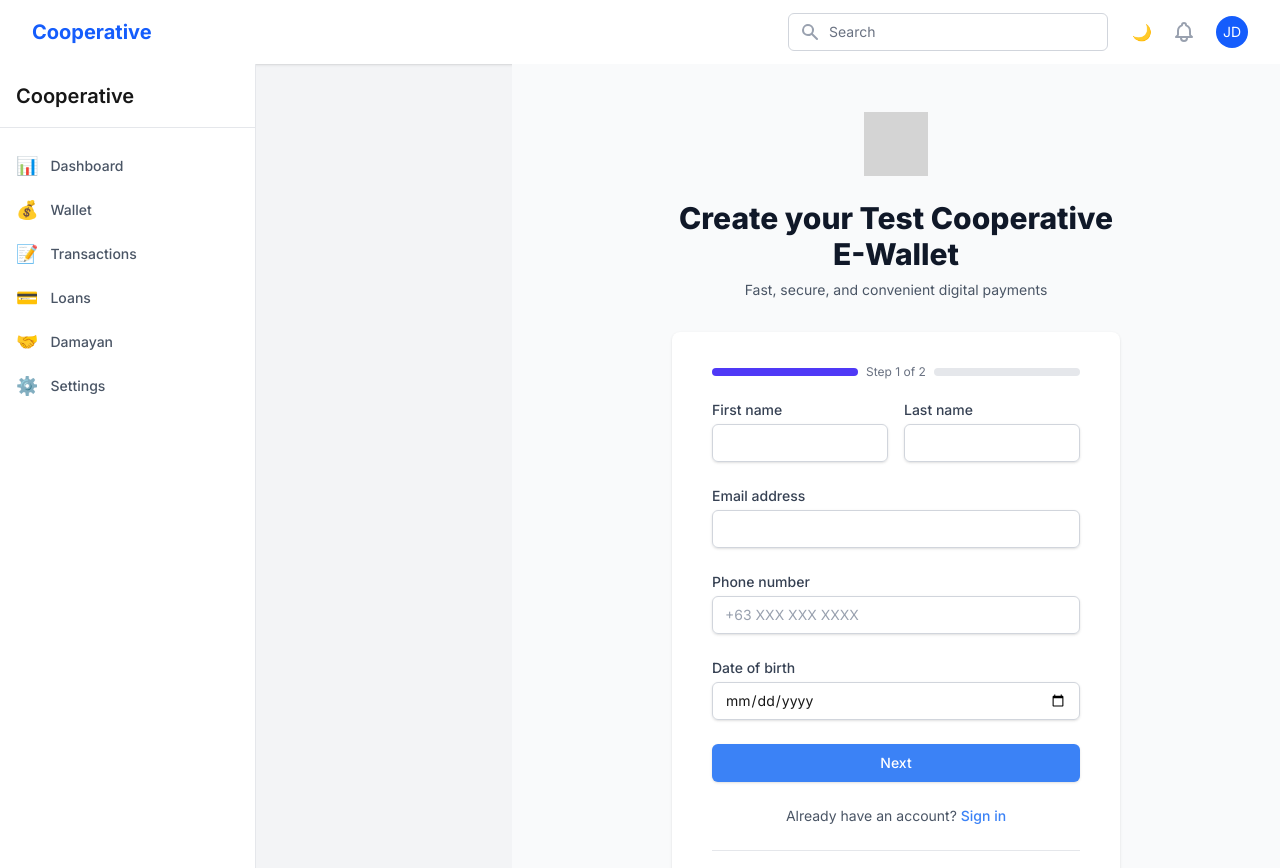
Test case: EWalletRegisterPage › proceeds to step 2 when step 1 is valid
// Fill out step 1
In the field labelled "First name": (800, 443) [712, 424, 888, 462], type "John"
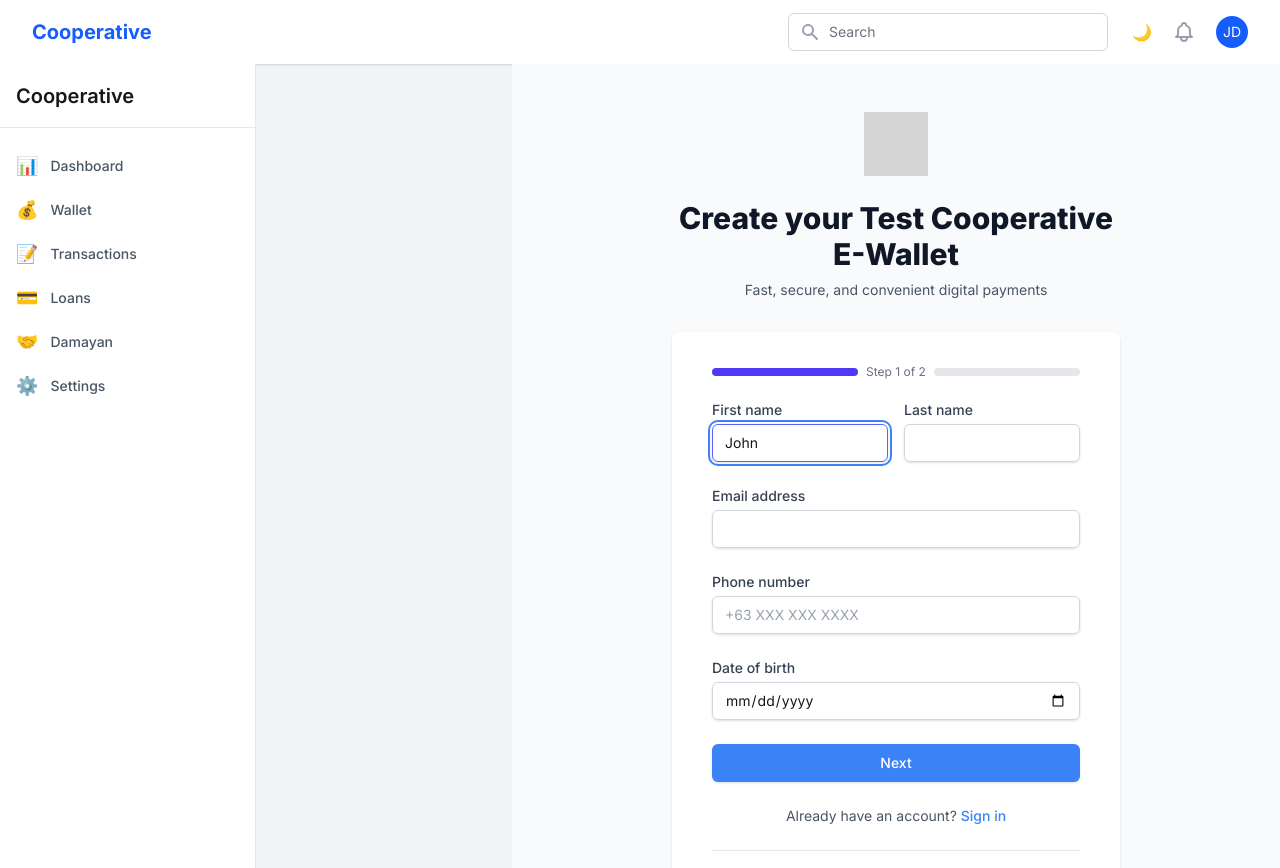
In the field labelled "Last name": (992, 443) [904, 424, 1080, 462], type "Doe"
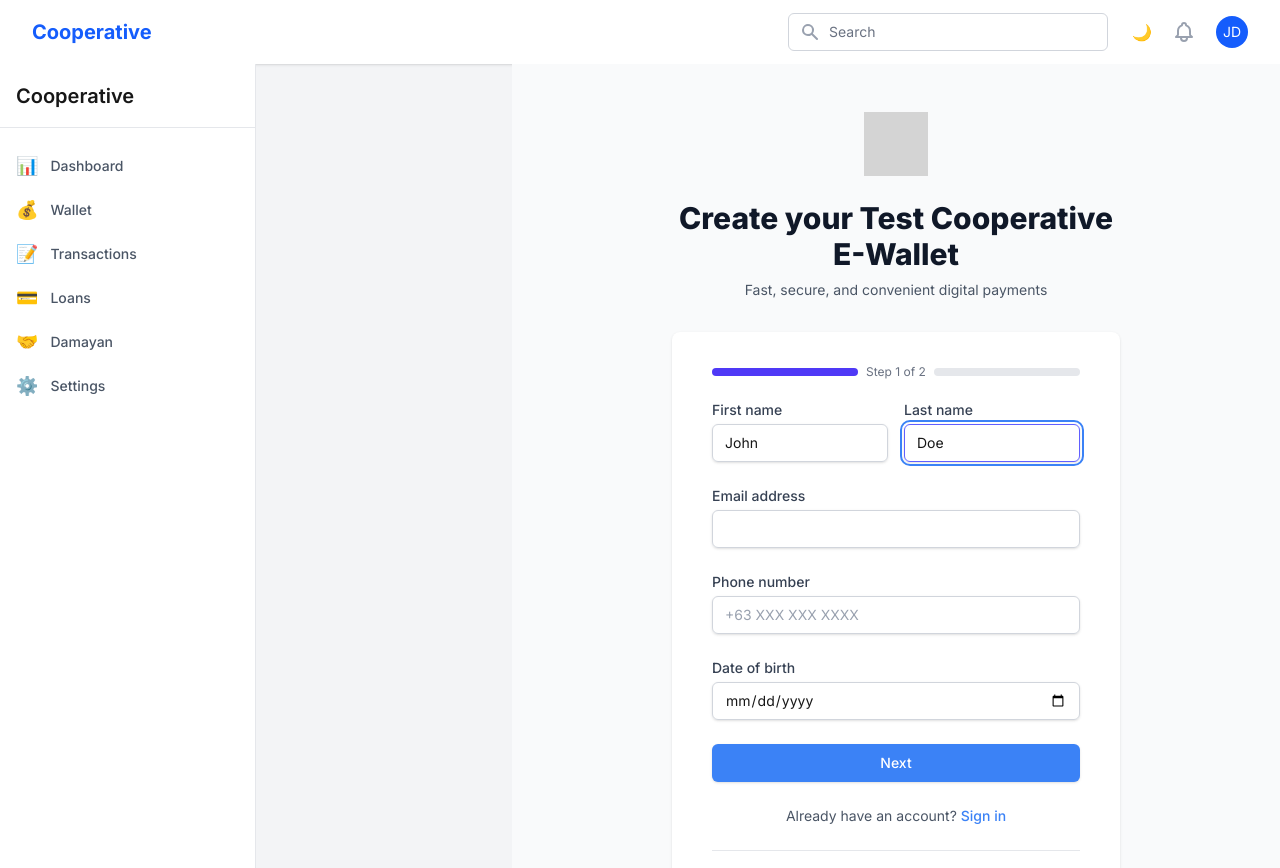
In the field labelled "Email address": (896, 529) [712, 510, 1080, 548], type "john.doe@example.com"
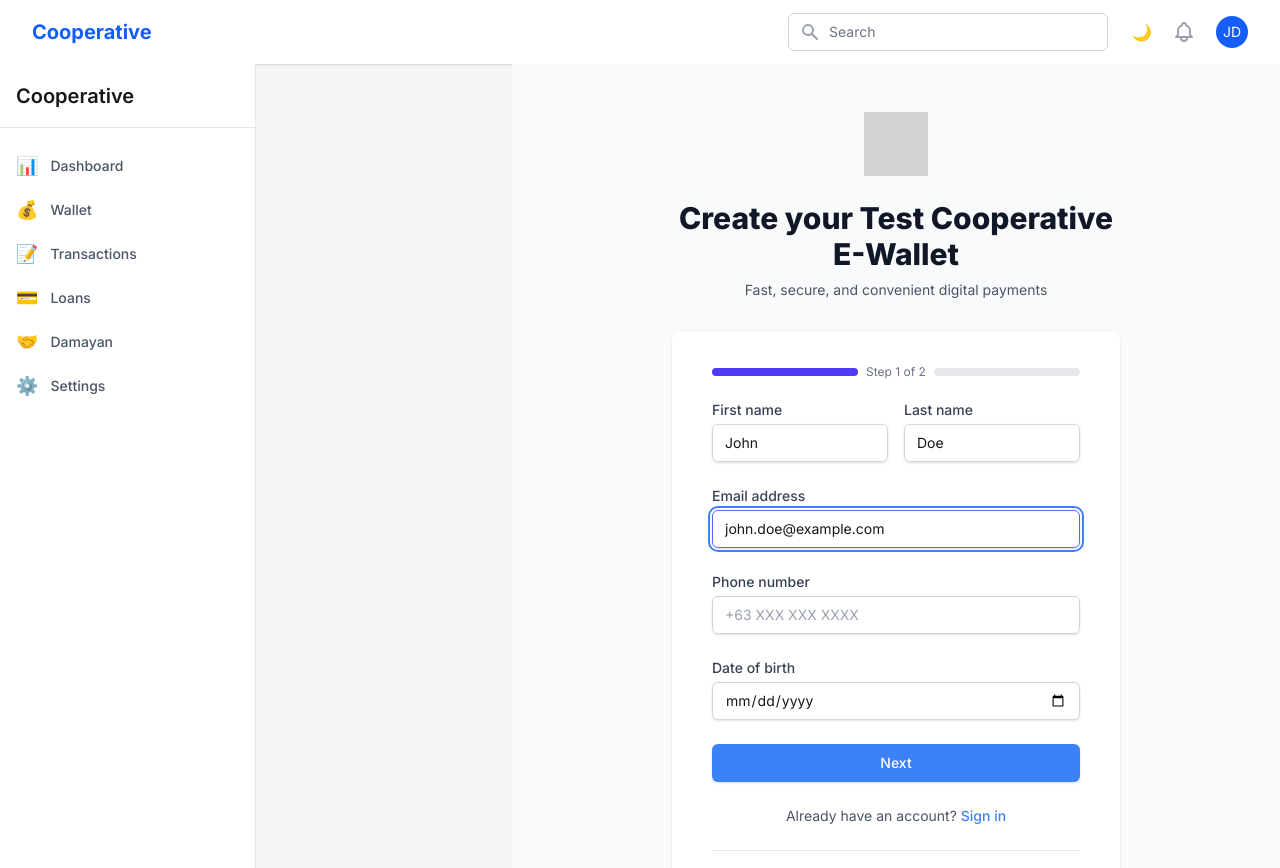
In the field labelled "Phone number": (896, 615) [712, 596, 1080, 634], type "+1234567890"
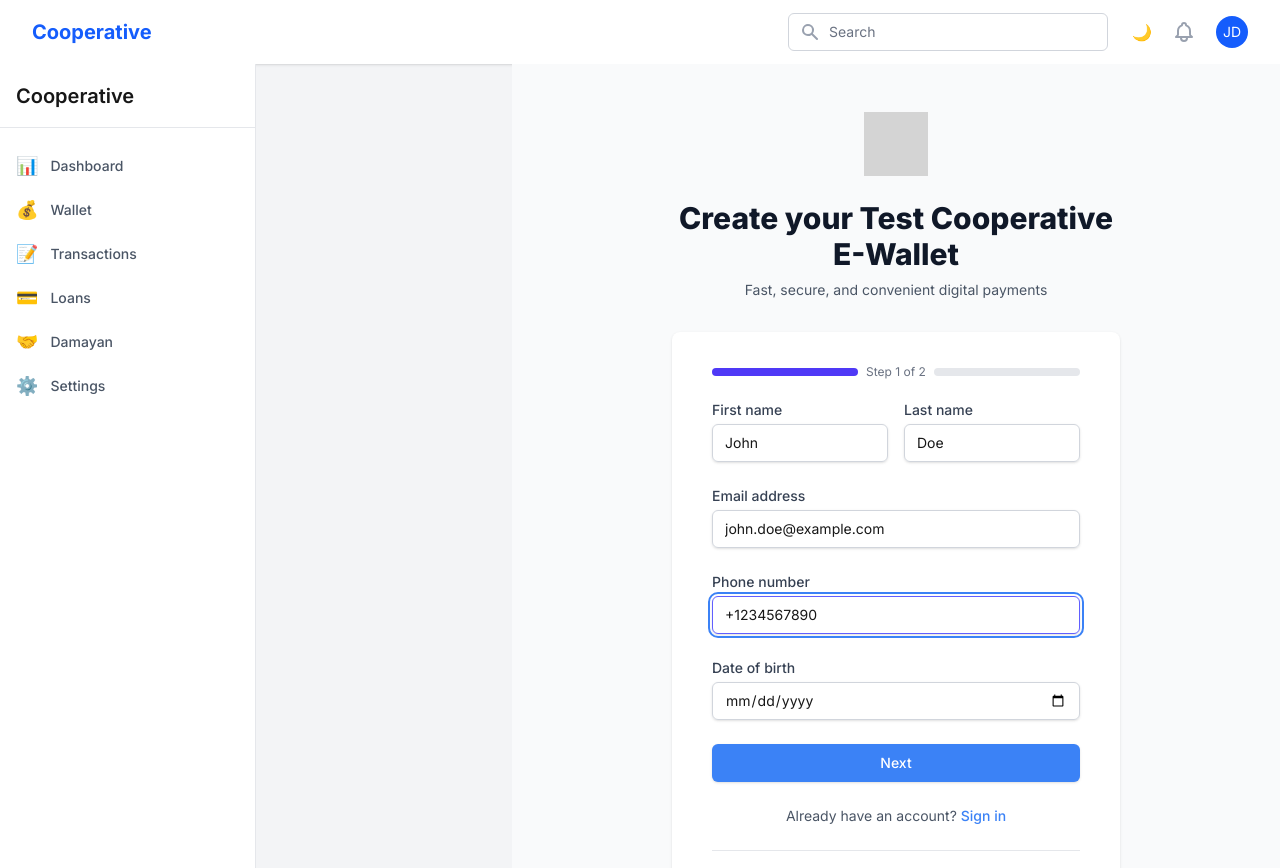
In the date field labelled "Date of birth": (896, 701) [712, 682, 1080, 720], type "1990-01-01"
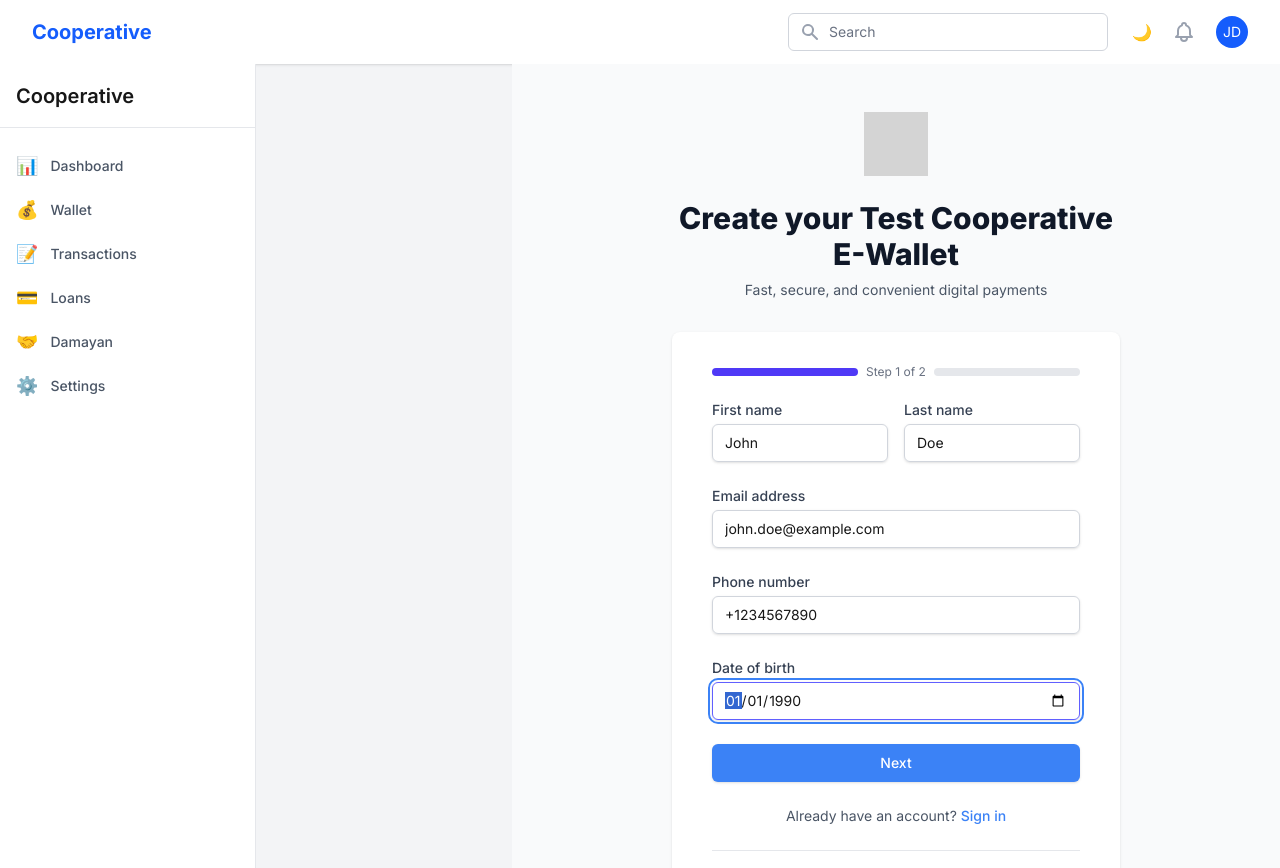
// Proceed to step 2
Click the button "Next": (896, 763) [712, 744, 1080, 782]
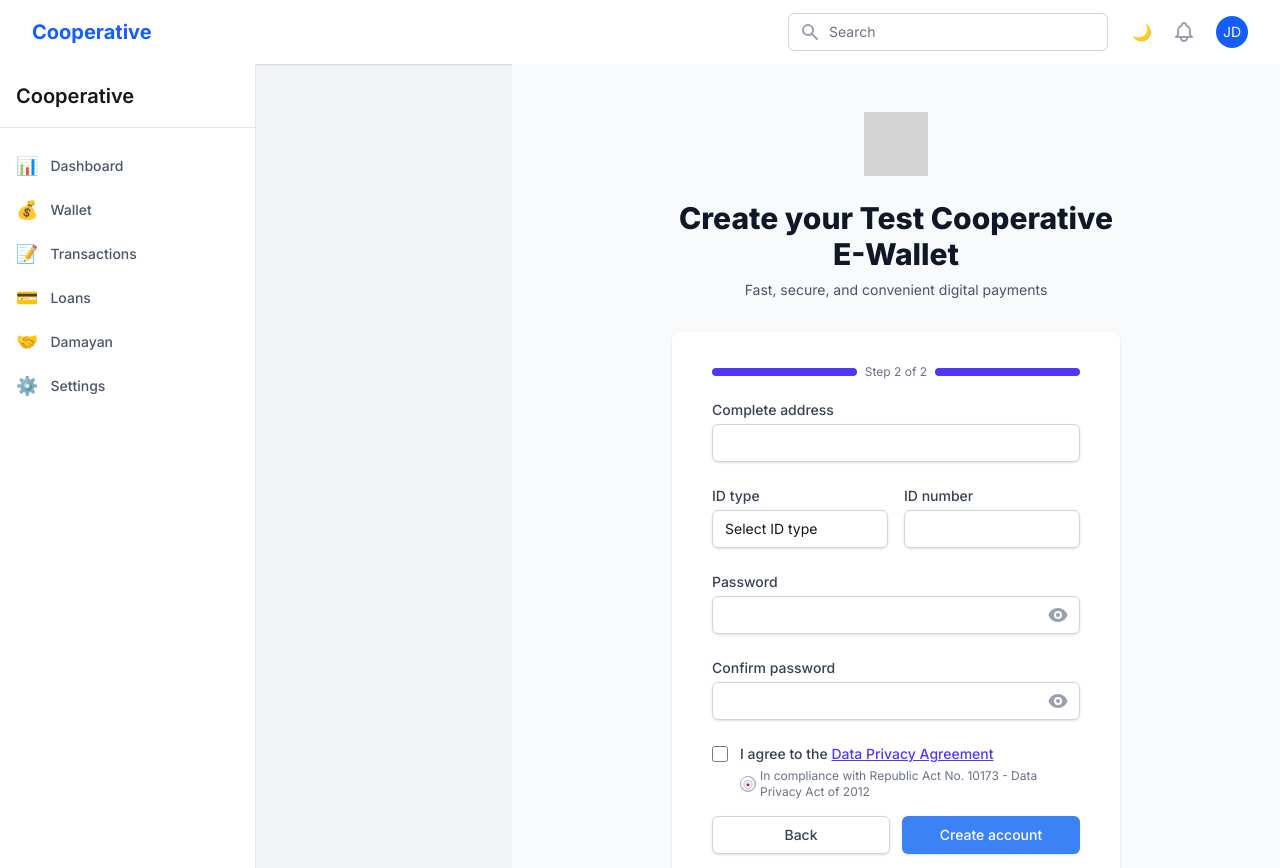
Expected: the field labelled "Complete address" is shown, [712, 424, 1080, 462]
Expected: the dropdown labelled "ID type" is shown, [712, 510, 888, 548]
Expected: the field labelled "ID number" is shown, [904, 510, 1080, 548]
